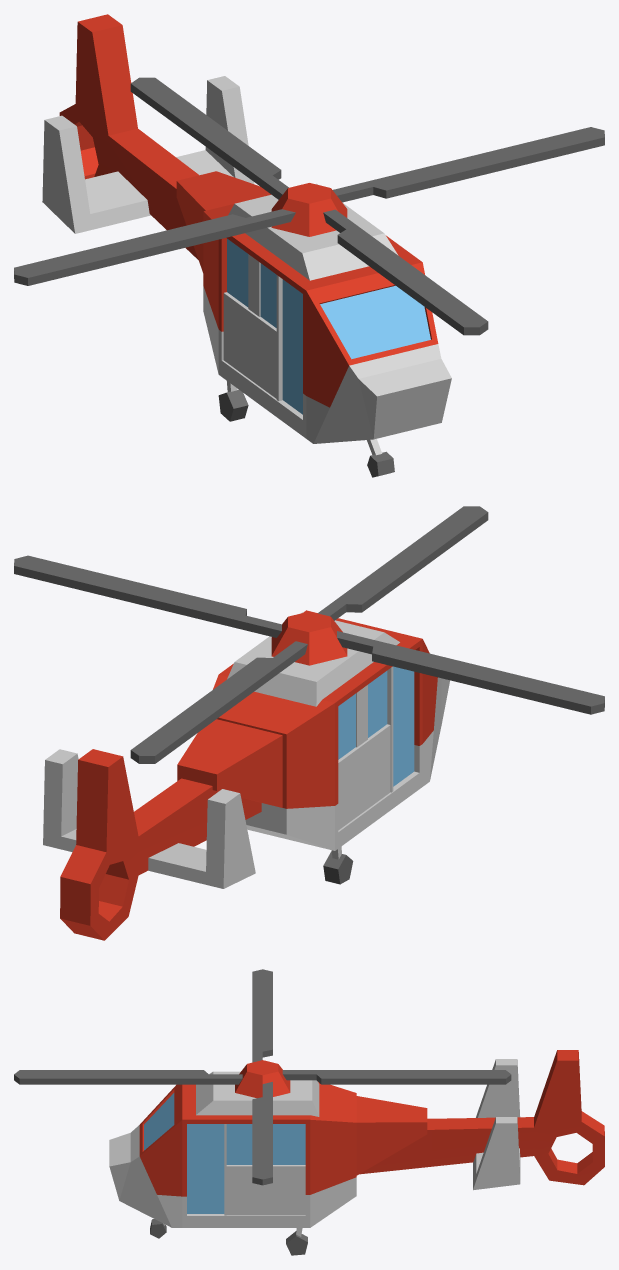
The model's file is Helicopter.fbx.
The picture shows the model from 3 angles, top to bottom: view 1: azimuth 30°, elevation 25°; view 2: azimuth 150°, elevation 25°; view 3: azimuth 270°, elevation 25°; orthographic projection. The views are drawn at different scales.
Visible parts, largest first — view 1: Helicopter, Helicopter_Propeller; view 2: Helicopter, Helicopter_Propeller; view 3: Helicopter, Helicopter_Propeller.
Boxes of the visible parts, box(x1,y1,x2,y2) form: Helicopter: box(42, 14, 451, 477); Helicopter_Propeller: box(14, 77, 604, 335); Helicopter: box(43, 610, 449, 940); Helicopter_Propeller: box(14, 506, 604, 763); Helicopter: box(109, 1050, 604, 1255); Helicopter_Propeller: box(14, 969, 511, 1185).
Size of the model in its own units: 3.75 by 1.5 by 4.45.
